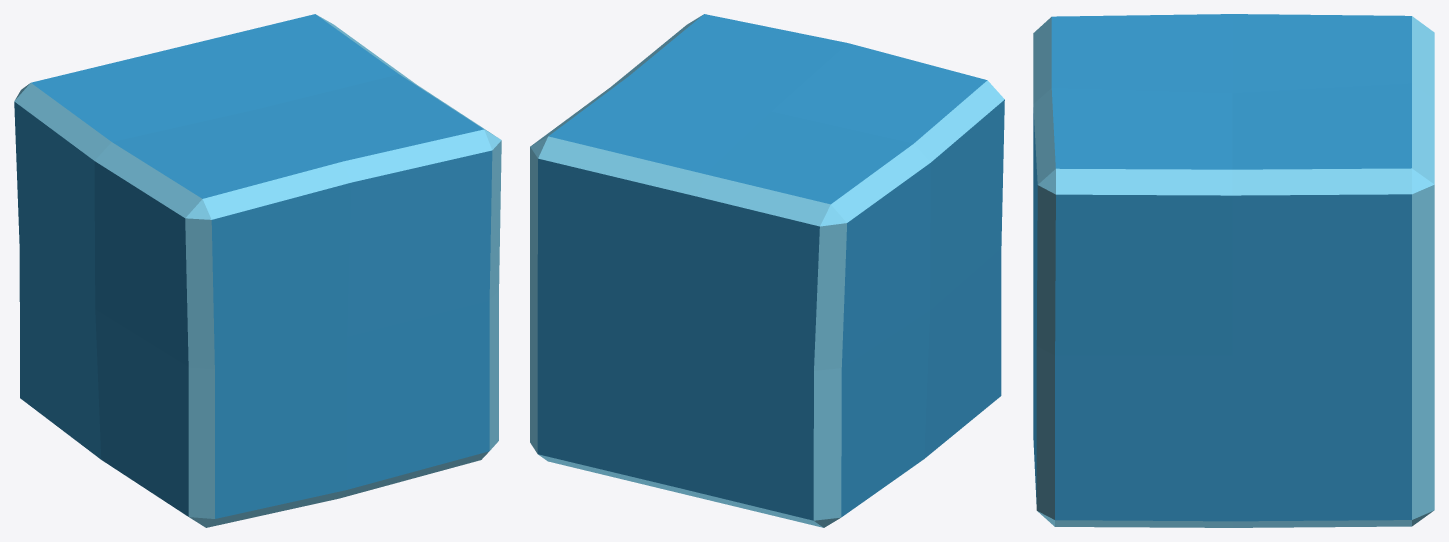
Rendered from Cubo.fbx.
3 renders of one model, left to right at view 1: azimuth 30°, elevation 25°; view 2: azimuth 150°, elevation 25°; view 3: azimuth 270°, elevation 25°, orthographic. The views are drawn at different scales.
Parts seen in each view (by area): view 1: Cube; view 2: Cube; view 3: Cube.
Boxes of the visible parts, x1=… form: Cube: x1=14, y1=14, x2=501, y2=527; Cube: x1=530, y1=14, x2=1004, y2=527; Cube: x1=1033, y1=14, x2=1434, y2=527.
Bounding box in the file's own units: 205 × 202 × 200.
Materials: 1 (1 with a texture image).
